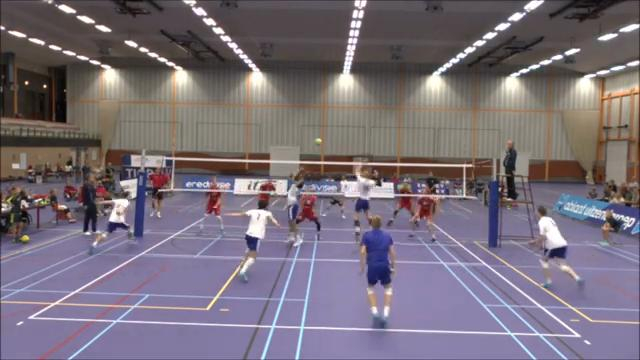alzata: (282, 166, 304, 249)
